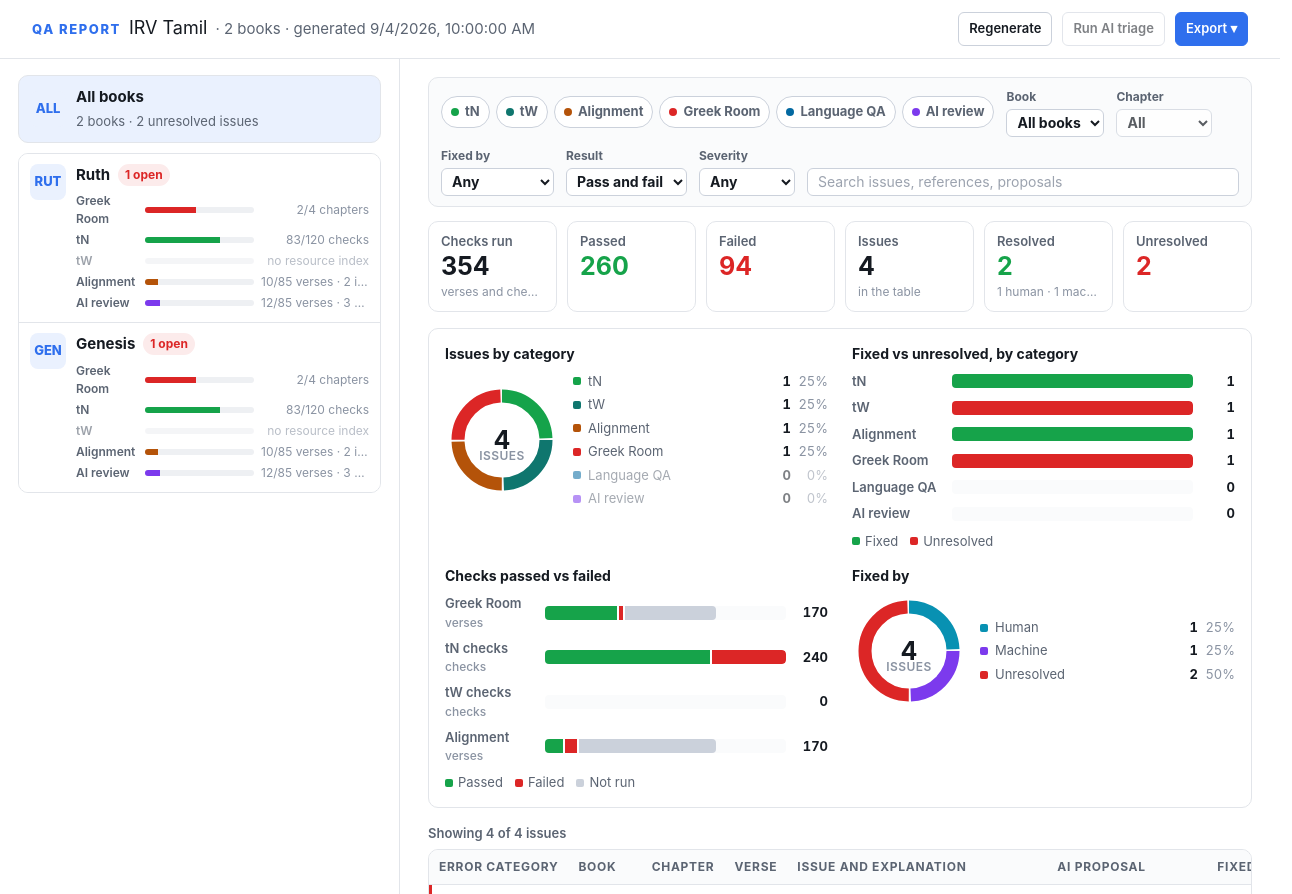
ProjectReportScreen › exports the filtered rows as CSV to the path the user picks
Click the button "tN" at (465, 112), box [441,96,490,128]
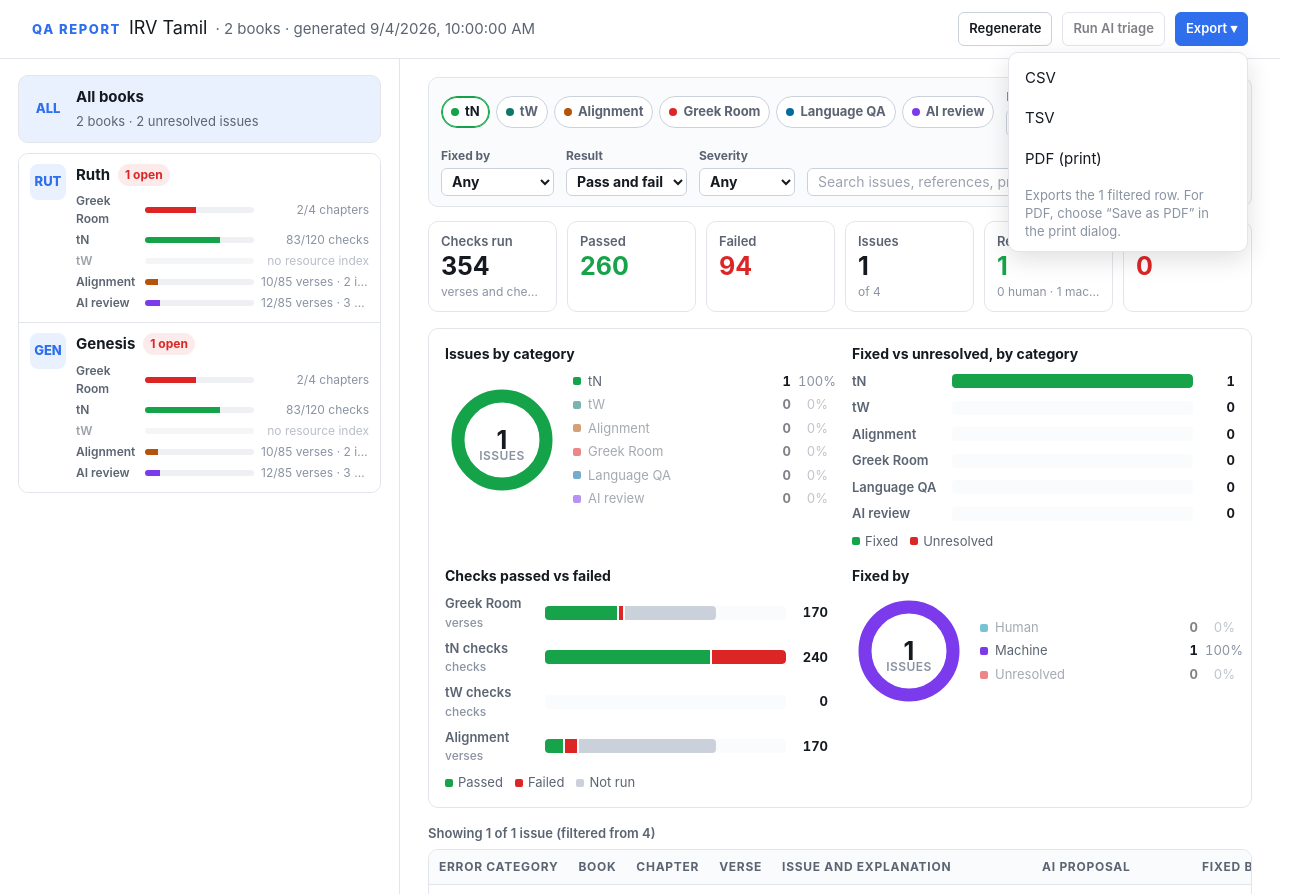
Click the button "CSV" at (1128, 78), box [1015,58,1241,97]
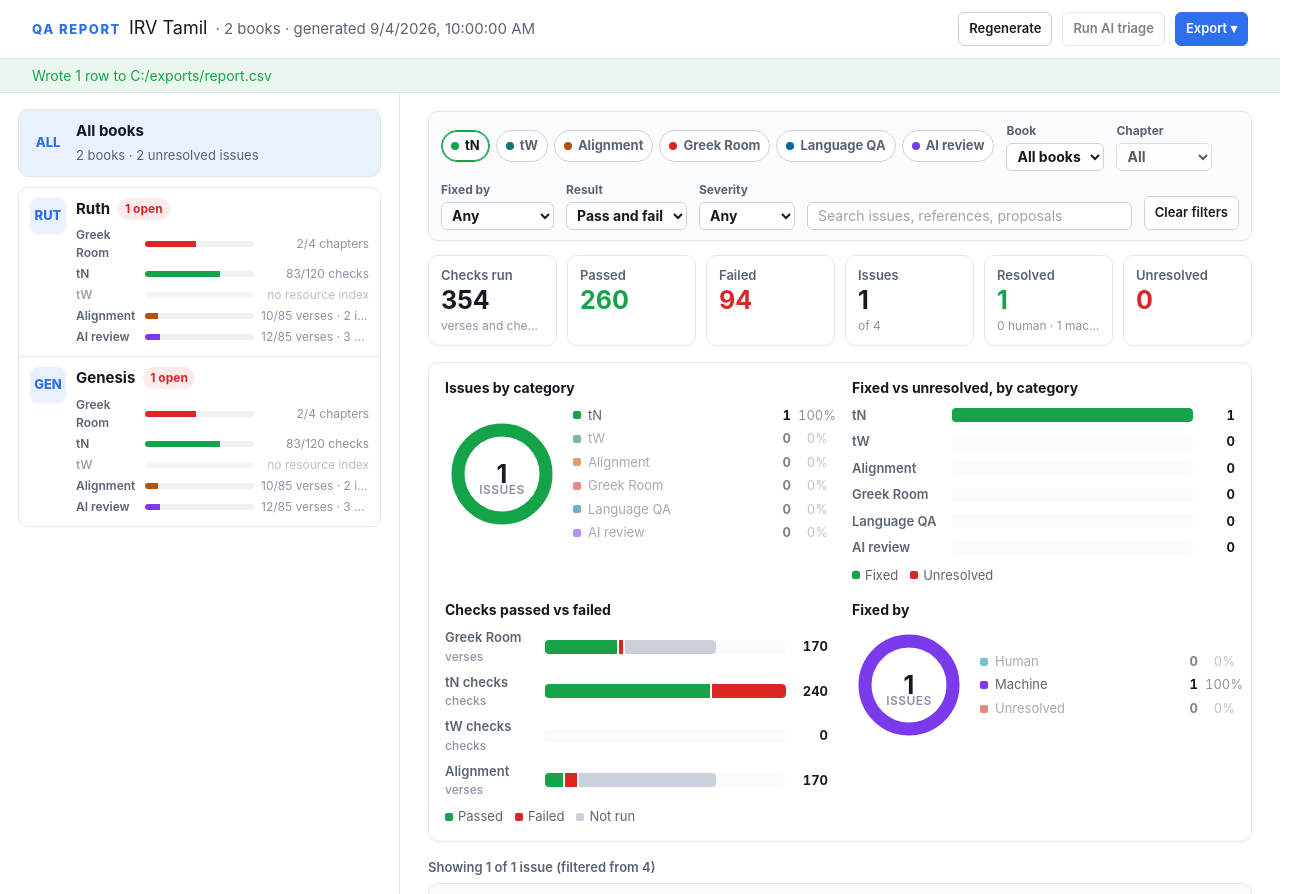
Now the text "Wrote 1 row to C:/exports/report.csv" is shown, box [0,58,1280,92]
